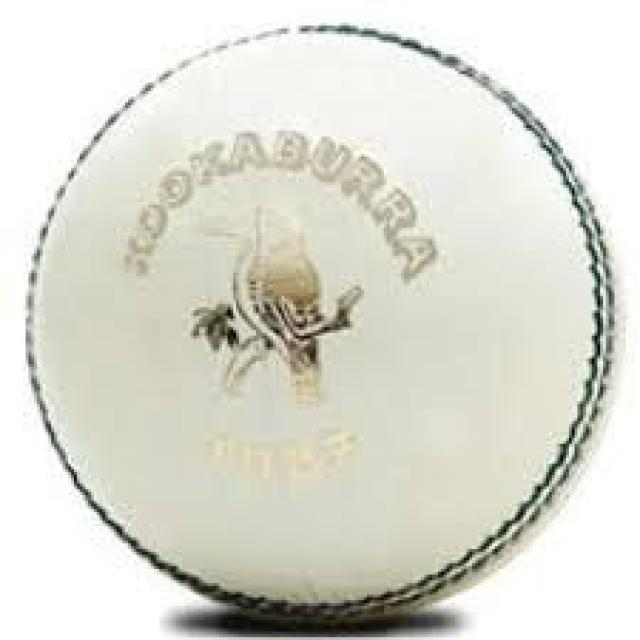ball: (28, 29, 618, 620)
